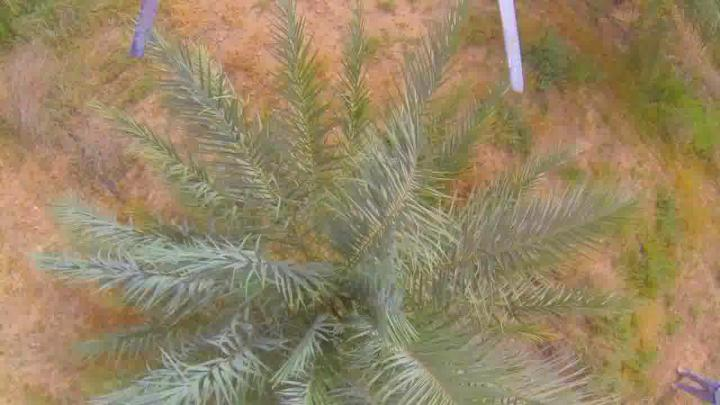Date-Palm-Crown: (162, 146, 510, 404)
